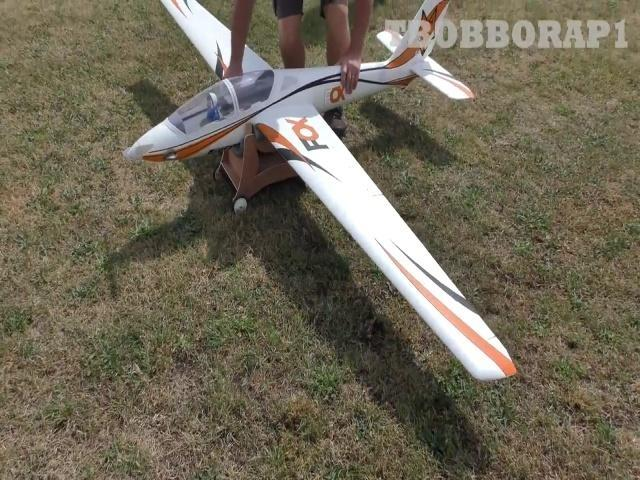Airplane: (123, 1, 516, 381)
